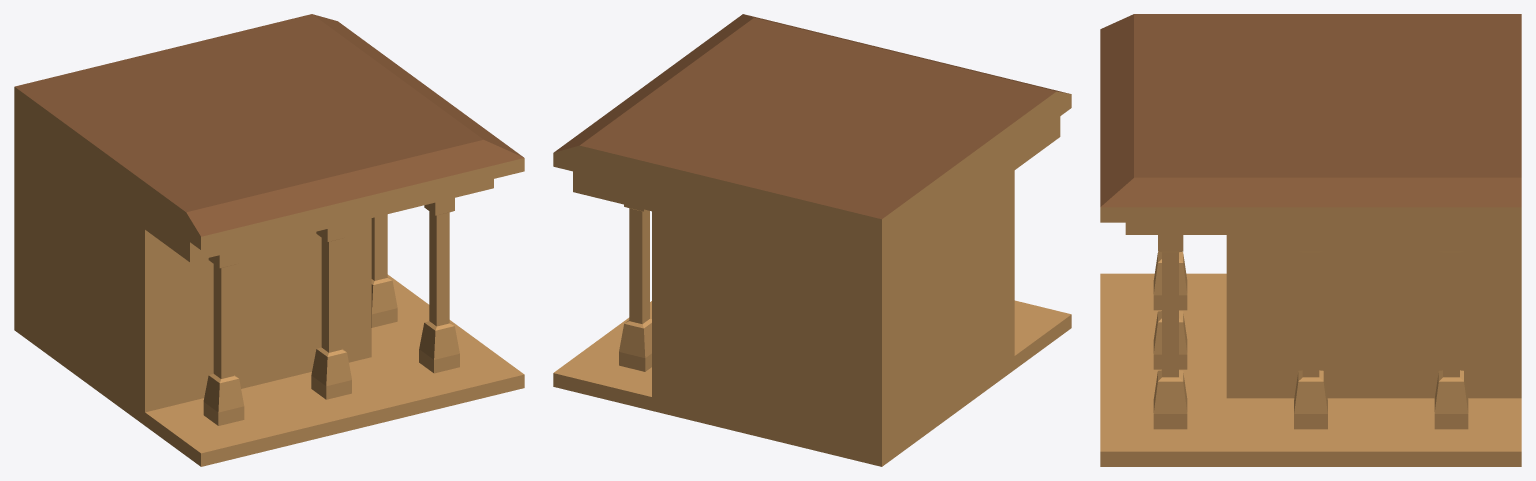
The model's file is india_hindu-wall-interior-edge.fbx.
3 views of the same model, side by side, from view 1: azimuth 30°, elevation 25°; view 2: azimuth 150°, elevation 25°; view 3: azimuth 270°, elevation 25° (orthographic). The views are drawn at different scales.
Parts seen in each view (by area): view 1: india_hindu_wall_interior_edge; view 2: india_hindu_wall_interior_edge; view 3: india_hindu_wall_interior_edge.
Boxes of the visible parts, left/top/right/bottom form: india_hindu_wall_interior_edge: left=14, top=14, right=524, bottom=466; india_hindu_wall_interior_edge: left=553, top=14, right=1071, bottom=466; india_hindu_wall_interior_edge: left=1100, top=14, right=1521, bottom=466.
Size of the model in its own units: 200 by 144 by 200.
